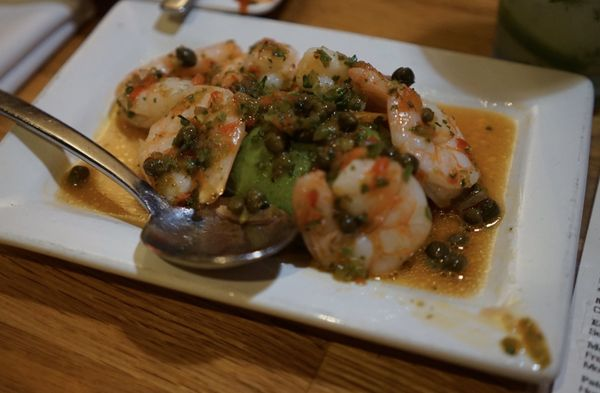salad: (2, 89, 303, 271)
sushi: (21, 7, 596, 387)
